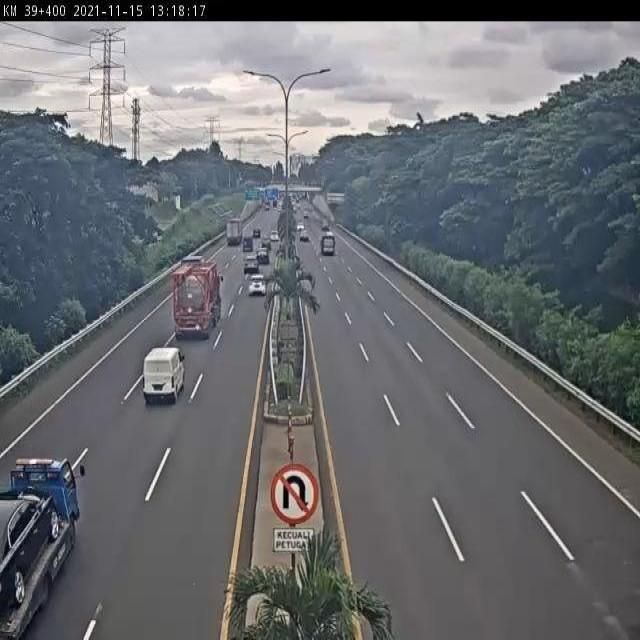Car: (249, 273, 265, 295), (256, 246, 269, 264), (245, 256, 259, 272), (243, 236, 253, 252), (300, 230, 310, 242), (321, 219, 331, 231), (269, 230, 280, 240), (262, 237, 270, 249), (296, 222, 304, 232), (253, 229, 260, 238)
Truck: (0, 456, 86, 640), (173, 258, 219, 339), (226, 218, 242, 246), (320, 232, 336, 256)
Van: (142, 347, 185, 402)
